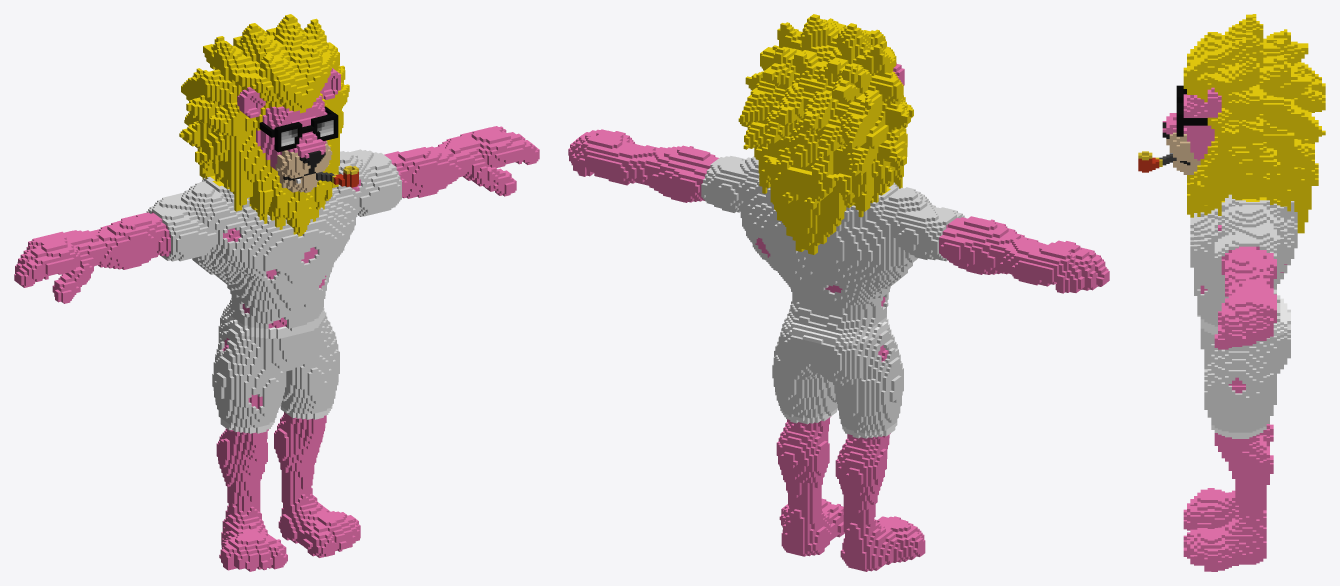
Rendered from 271-Cr51tVfE.glb.
The picture shows the model from 3 angles, left to right: view 1: azimuth 30°, elevation 25°; view 2: azimuth 150°, elevation 25°; view 3: azimuth 270°, elevation 25°; orthographic projection. The views are drawn at different scales.
Parts seen in each view (by area): view 1: pipe; view 2: pipe; view 3: pipe.
Boxes of the visible parts, x1,y1,x2,y2 form: pipe: [14, 14, 539, 571]; pipe: [568, 14, 1109, 571]; pipe: [1138, 14, 1325, 571].
Bounding box in the file's own units: 17.2 × 16.5 × 5.4.
Materials: 5 (5 with a texture image).
